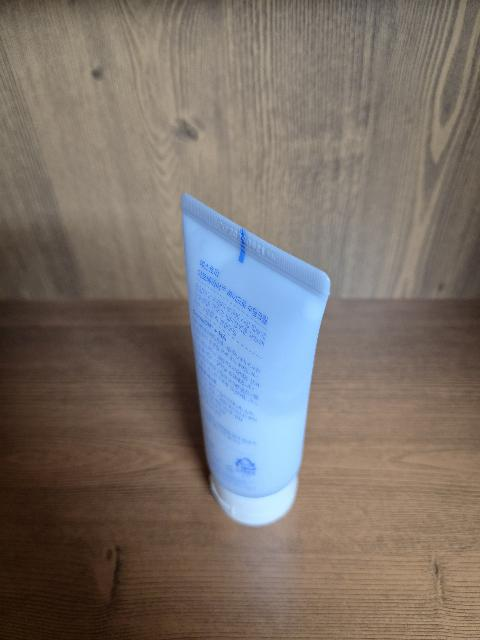handcream: (181, 193, 330, 526)
